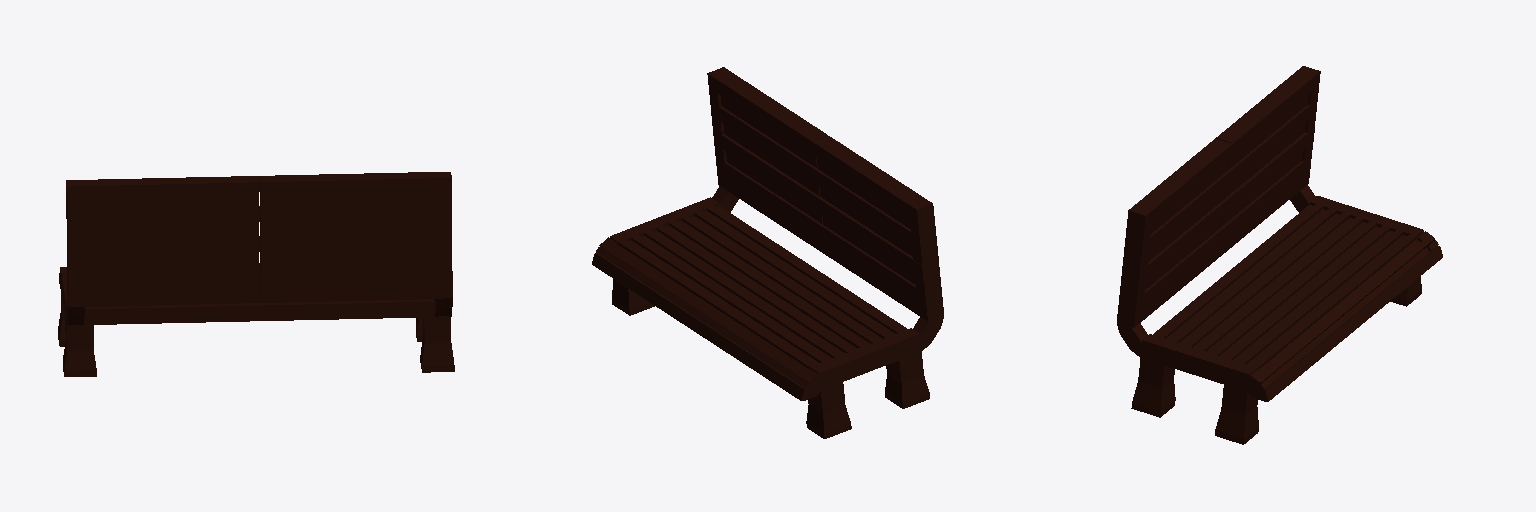
Rendered from banco.obj.
3 views of the same model, side by side, from view 1: azimuth 30°, elevation 25°; view 2: azimuth 150°, elevation 25°; view 3: azimuth 270°, elevation 25° (orthographic).
Parts seen in each view (by area): view 1: group[number redacted], group[number redacted], group[number redacted], group[number redacted]; view 2: group[number redacted], group[number redacted], group[number redacted], group[number redacted], group[number redacted]; view 3: group[number redacted], group[number redacted], group[number redacted], group[number redacted].
Boxes of the visible parts, box(x1,y1,x2,y2) form: group[number redacted]: box(66, 172, 452, 320); group[number redacted]: box(59, 177, 259, 325); group[number redacted]: box(420, 317, 454, 372); group[number redacted]: box(63, 318, 96, 376); group[number redacted]: box(592, 67, 929, 378); group[number redacted]: box(697, 136, 943, 400); group[number redacted]: box(885, 352, 929, 408); group[number redacted]: box(806, 382, 851, 438); group[number redacted]: box(612, 279, 654, 315); group[number redacted]: box(1117, 70, 1427, 401); group[number redacted]: box(1216, 66, 1442, 328); group[number redacted]: box(1131, 358, 1175, 417); group[number redacted]: box(1215, 385, 1258, 444).
Size of the model in its own units: 1.25 by 0.6844 by 0.9721.